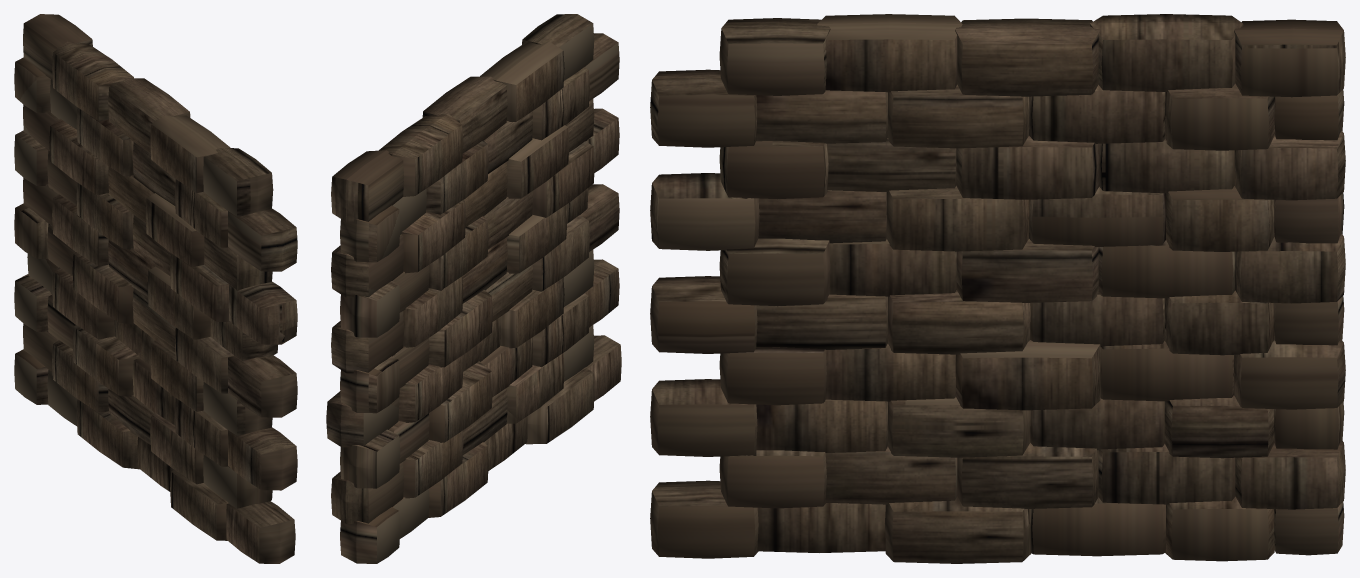
Rendered from ParedTill DER.fbx.
The picture shows the model from 3 angles, left to right: view 1: azimuth 30°, elevation 25°; view 2: azimuth 150°, elevation 25°; view 3: azimuth 270°, elevation 25°; orthographic projection. The views are drawn at different scales.
Parts seen in each view (by area): view 1: Pared_Piedra011; view 2: Pared_Piedra011; view 3: Pared_Piedra011.
Part boxes in pixels (left/top/right/bottom): Pared_Piedra011: left=14, top=14, right=297, bottom=563; Pared_Piedra011: left=326, top=14, right=621, bottom=563; Pared_Piedra011: left=650, top=14, right=1345, bottom=563.
Size of the model in its own units: 71.41 by 444 by 532.
